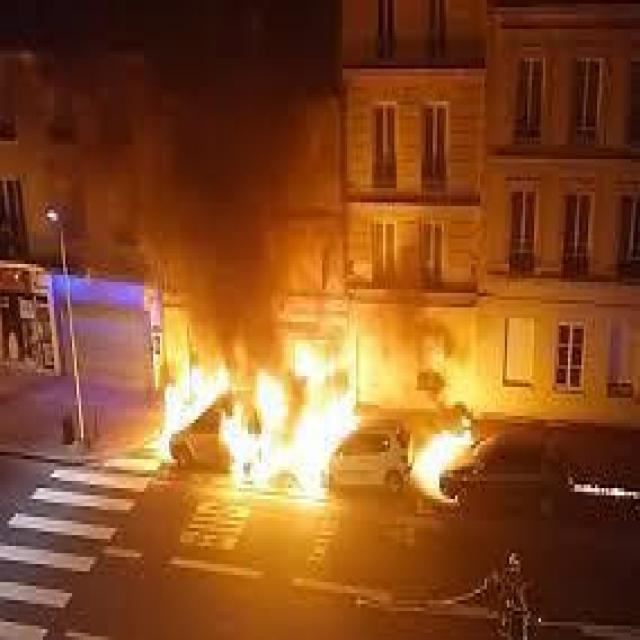fire: (142, 334, 365, 493), (403, 405, 474, 501)
smoke: (34, 1, 339, 294)
